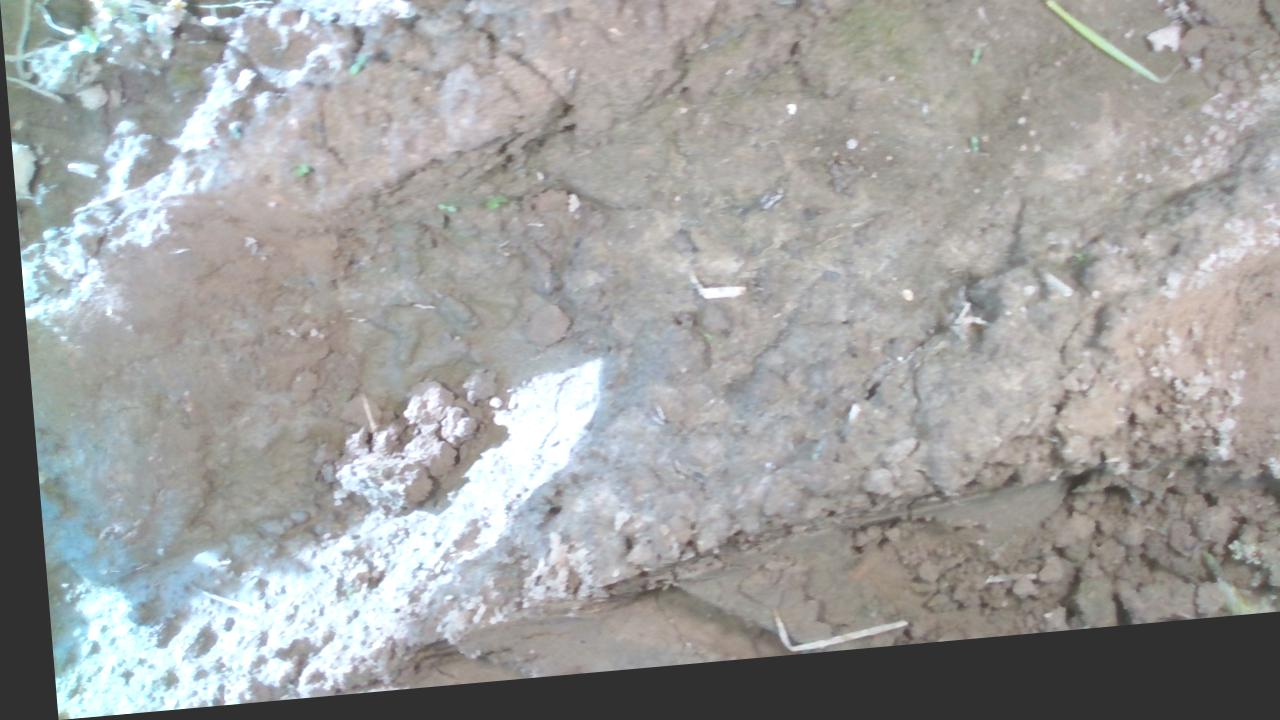weed: (342, 56, 367, 83), (429, 207, 454, 222), (963, 63, 980, 85), (963, 150, 977, 173)
